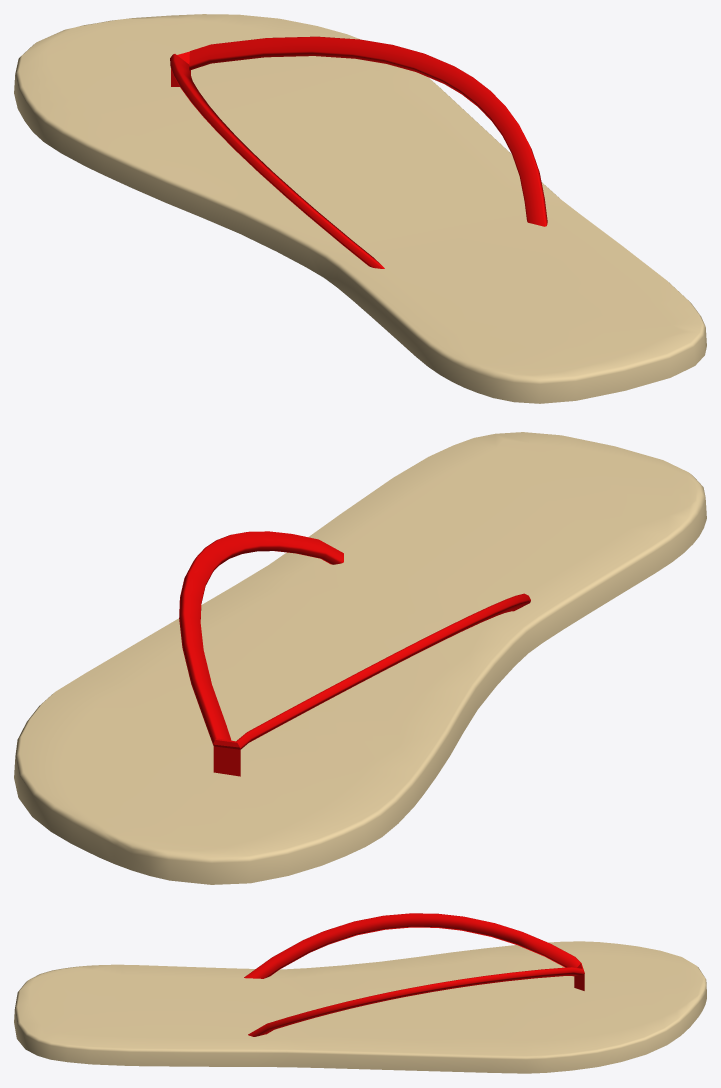
Rendered from flipflop.fbx.
3 renders of one model, top to bottom at view 1: azimuth 30°, elevation 25°; view 2: azimuth 150°, elevation 25°; view 3: azimuth 270°, elevation 25°, orthographic. The views are drawn at different scales.
Parts seen in each view (by area): view 1: flipflop, straps; view 2: flipflop, straps; view 3: flipflop, straps.
Boxes of the visible parts, x1,y1,x2,y2 form: flipflop: (14,14,706,403); straps: (170,36,547,268); flipflop: (14,432,706,884); straps: (179,531,530,776); flipflop: (14,941,706,1073); straps: (244,913,584,1036).
Bounding box in the file's own units: 1.05 × 0.2942 × 2.61.
